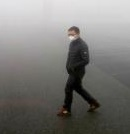person: (57, 25, 103, 117)
